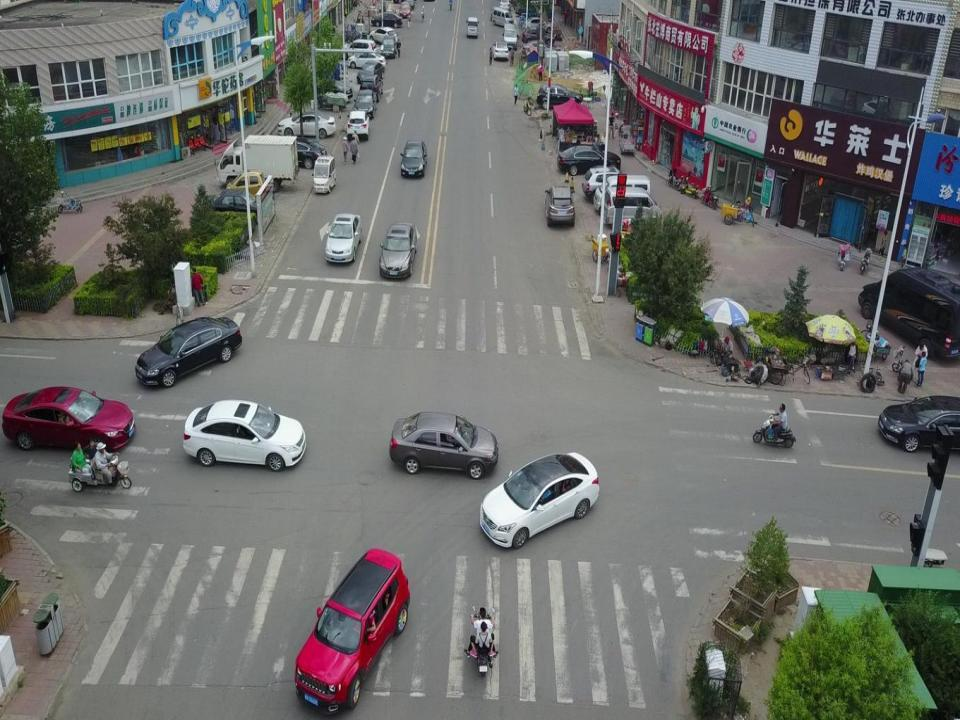car: (296, 546, 410, 711), (481, 452, 599, 548), (3, 386, 135, 449), (184, 400, 306, 468), (390, 410, 498, 476), (137, 316, 241, 383), (878, 395, 960, 453), (379, 222, 417, 277), (559, 140, 622, 172), (204, 186, 260, 221), (324, 214, 363, 262), (278, 131, 327, 169), (278, 110, 336, 137), (582, 164, 630, 196), (537, 83, 583, 110), (546, 183, 575, 225), (400, 138, 427, 179), (316, 77, 352, 103), (347, 108, 371, 140), (347, 51, 385, 71), (352, 88, 376, 118), (341, 38, 378, 57), (357, 58, 385, 83), (522, 25, 556, 45), (360, 72, 384, 100), (370, 10, 402, 28), (369, 26, 397, 44), (525, 15, 551, 31), (380, 34, 396, 57), (493, 40, 509, 61), (399, 1, 410, 19), (498, 0, 511, 12)
van: (857, 267, 960, 356), (217, 136, 298, 184), (605, 187, 662, 232), (595, 174, 651, 212), (491, 6, 515, 26), (502, 24, 518, 45), (466, 15, 479, 38)
